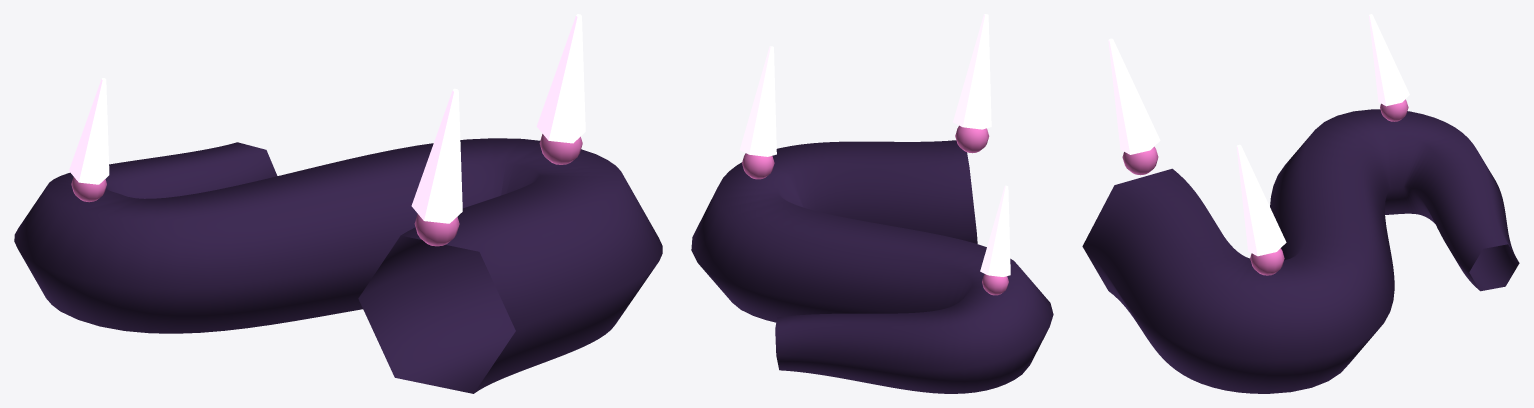
File: SM_Keeper_Apep_Body_F10.fbx
The picture shows the model from 3 angles, left to right: view 1: azimuth 30°, elevation 25°; view 2: azimuth 150°, elevation 25°; view 3: azimuth 270°, elevation 25°; orthographic projection. The views are drawn at different scales.
Visible parts, largest first — view 1: SM_Keeper_Apep_Body_F10; view 2: SM_Keeper_Apep_Body_F10; view 3: SM_Keeper_Apep_Body_F10.
Boxes of the visible parts, x1,y1,x2,y2 form: SM_Keeper_Apep_Body_F10: (14,14,662,393); SM_Keeper_Apep_Body_F10: (691,14,1053,393); SM_Keeper_Apep_Body_F10: (1082,14,1519,393).
Size of the model in its own units: 7.22 by 4.37 by 6.55.
